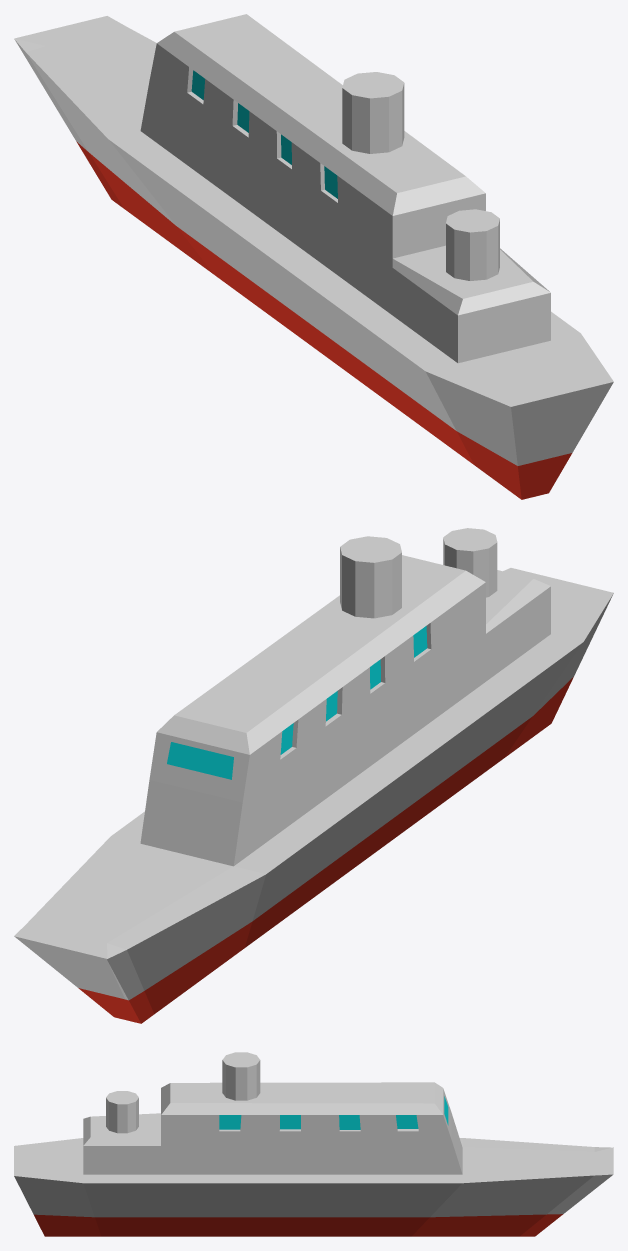
Rendered from ship.gltf.
3 renders of one model, top to bottom at view 1: azimuth 30°, elevation 25°; view 2: azimuth 150°, elevation 25°; view 3: azimuth 270°, elevation 25°, orthographic. The views are drawn at different scales.
Parts seen in each view (by area): view 1: 立方体; view 2: 立方体; view 3: 立方体.
Part boxes in pixels (x1,y1,x2,y2): 立方体: (14, 14, 613, 499); 立方体: (14, 528, 613, 1023); 立方体: (14, 1052, 613, 1236).
Bounding box in the file's own units: 2 × 3.57 × 11.19.
